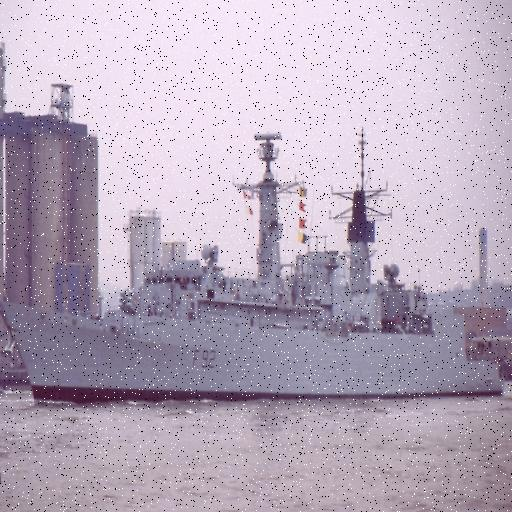Fragata: (1, 125, 509, 399)
